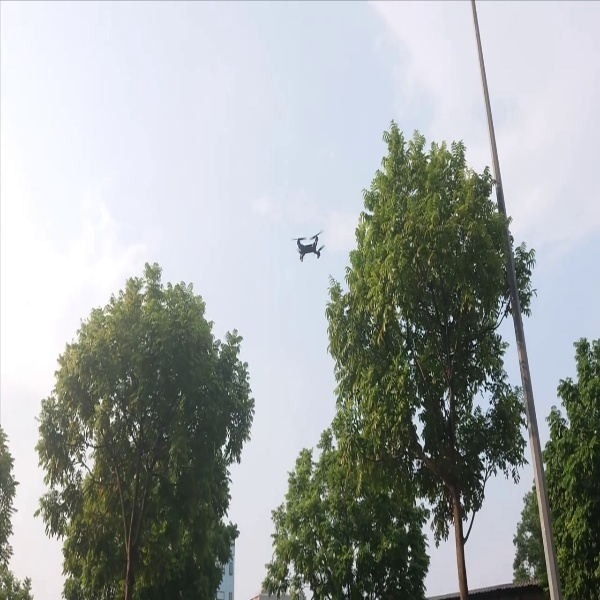drone: (287, 225, 329, 267)
